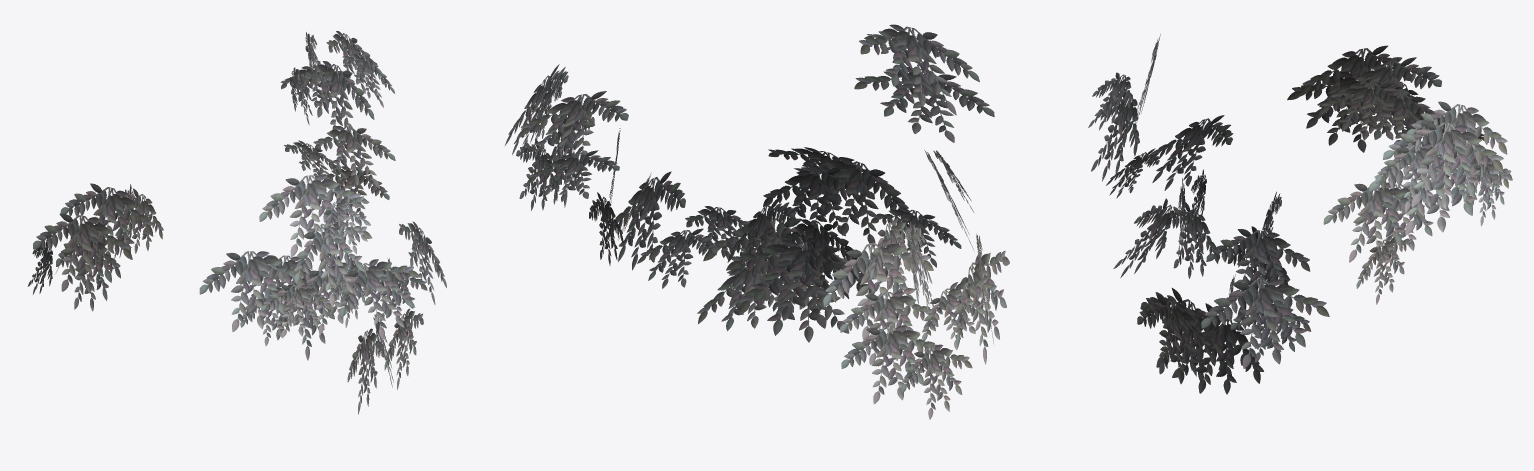
Rendered from willow_l2.gltf.
The picture shows the model from 3 angles, left to right: view 1: azimuth 30°, elevation 25°; view 2: azimuth 150°, elevation 25°; view 3: azimuth 270°, elevation 25°; orthographic projection. The views are drawn at different scales.
Parts seen in each view (by area): view 1: willow_l2; view 2: willow_l2; view 3: willow_l2.
Boxes of the visible parts, x1,y1,x2,y2 form: willow_l2: [27, 31, 446, 414]; willow_l2: [505, 24, 1009, 419]; willow_l2: [1088, 34, 1512, 394].
Bounding box in the file's own units: 8.76 × 7.32 × 8.11.
Materials: 1 (1 with a texture image).
